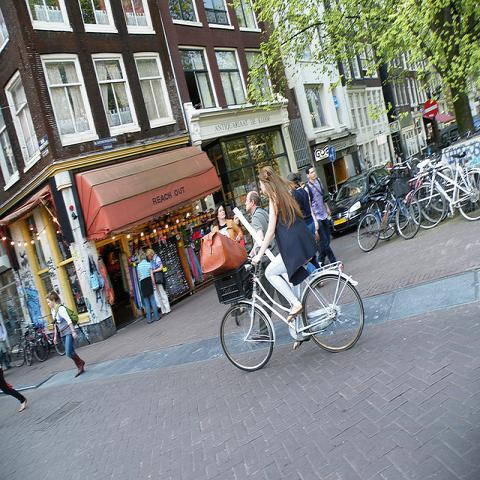car: (330, 170, 387, 233), (440, 99, 480, 147)
